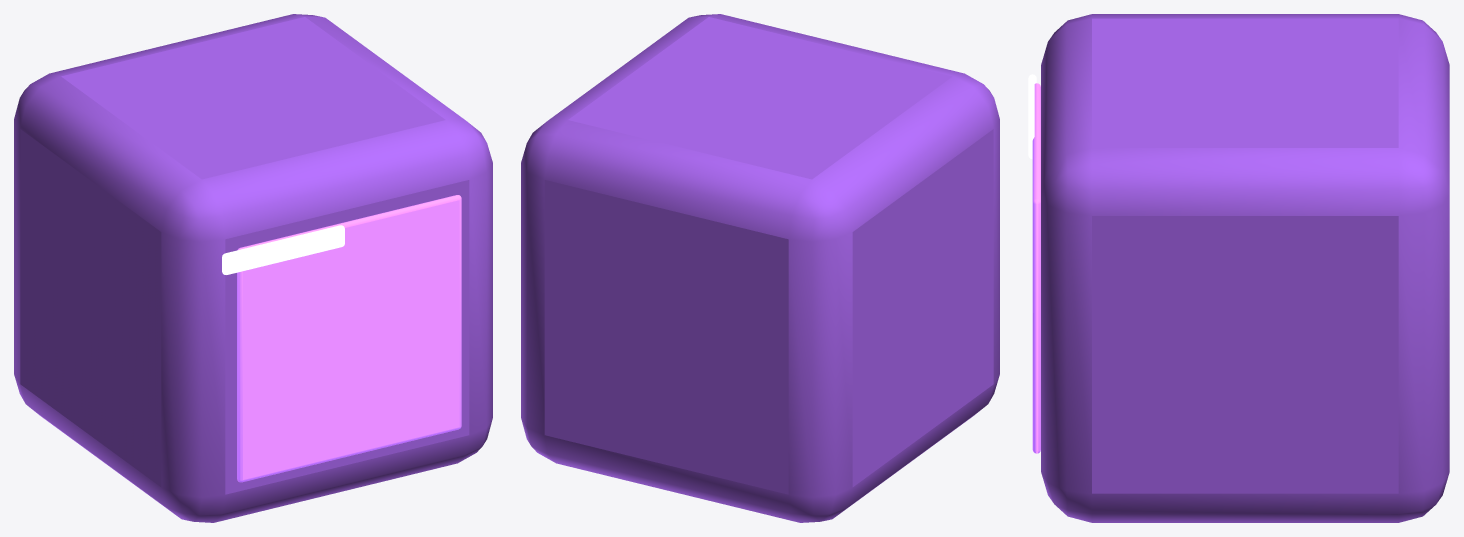
File: kostka_t.glb
3 renders of one model, left to right at view 1: azimuth 30°, elevation 25°; view 2: azimuth 150°, elevation 25°; view 3: azimuth 270°, elevation 25°, orthographic. The views are drawn at different scales.
Visible parts, largest first — view 1: kostka_t_m, kostka_t_lesk, kostka_t_hrana; view 2: kostka_t_m; view 3: kostka_t_m, kostka_t_lesk, kostka_t_hrana.
Boxes of the visible parts, x1=… form: kostka_t_m: x1=14, y1=14, x2=492, y2=522; kostka_t_lesk: x1=237, y1=195, x2=461, y2=482; kostka_t_hrana: x1=222, y1=225, x2=344, y2=274; kostka_t_m: x1=521, y1=14, x2=999, y2=522; kostka_t_m: x1=1041, y1=14, x2=1449, y2=522; kostka_t_lesk: x1=1032, y1=83, x2=1040, y2=453; kostka_t_hrana: x1=1028, y1=74, x2=1036, y2=159.
Bounding box in the file's own units: 0.96 × 0.96 × 0.99.
